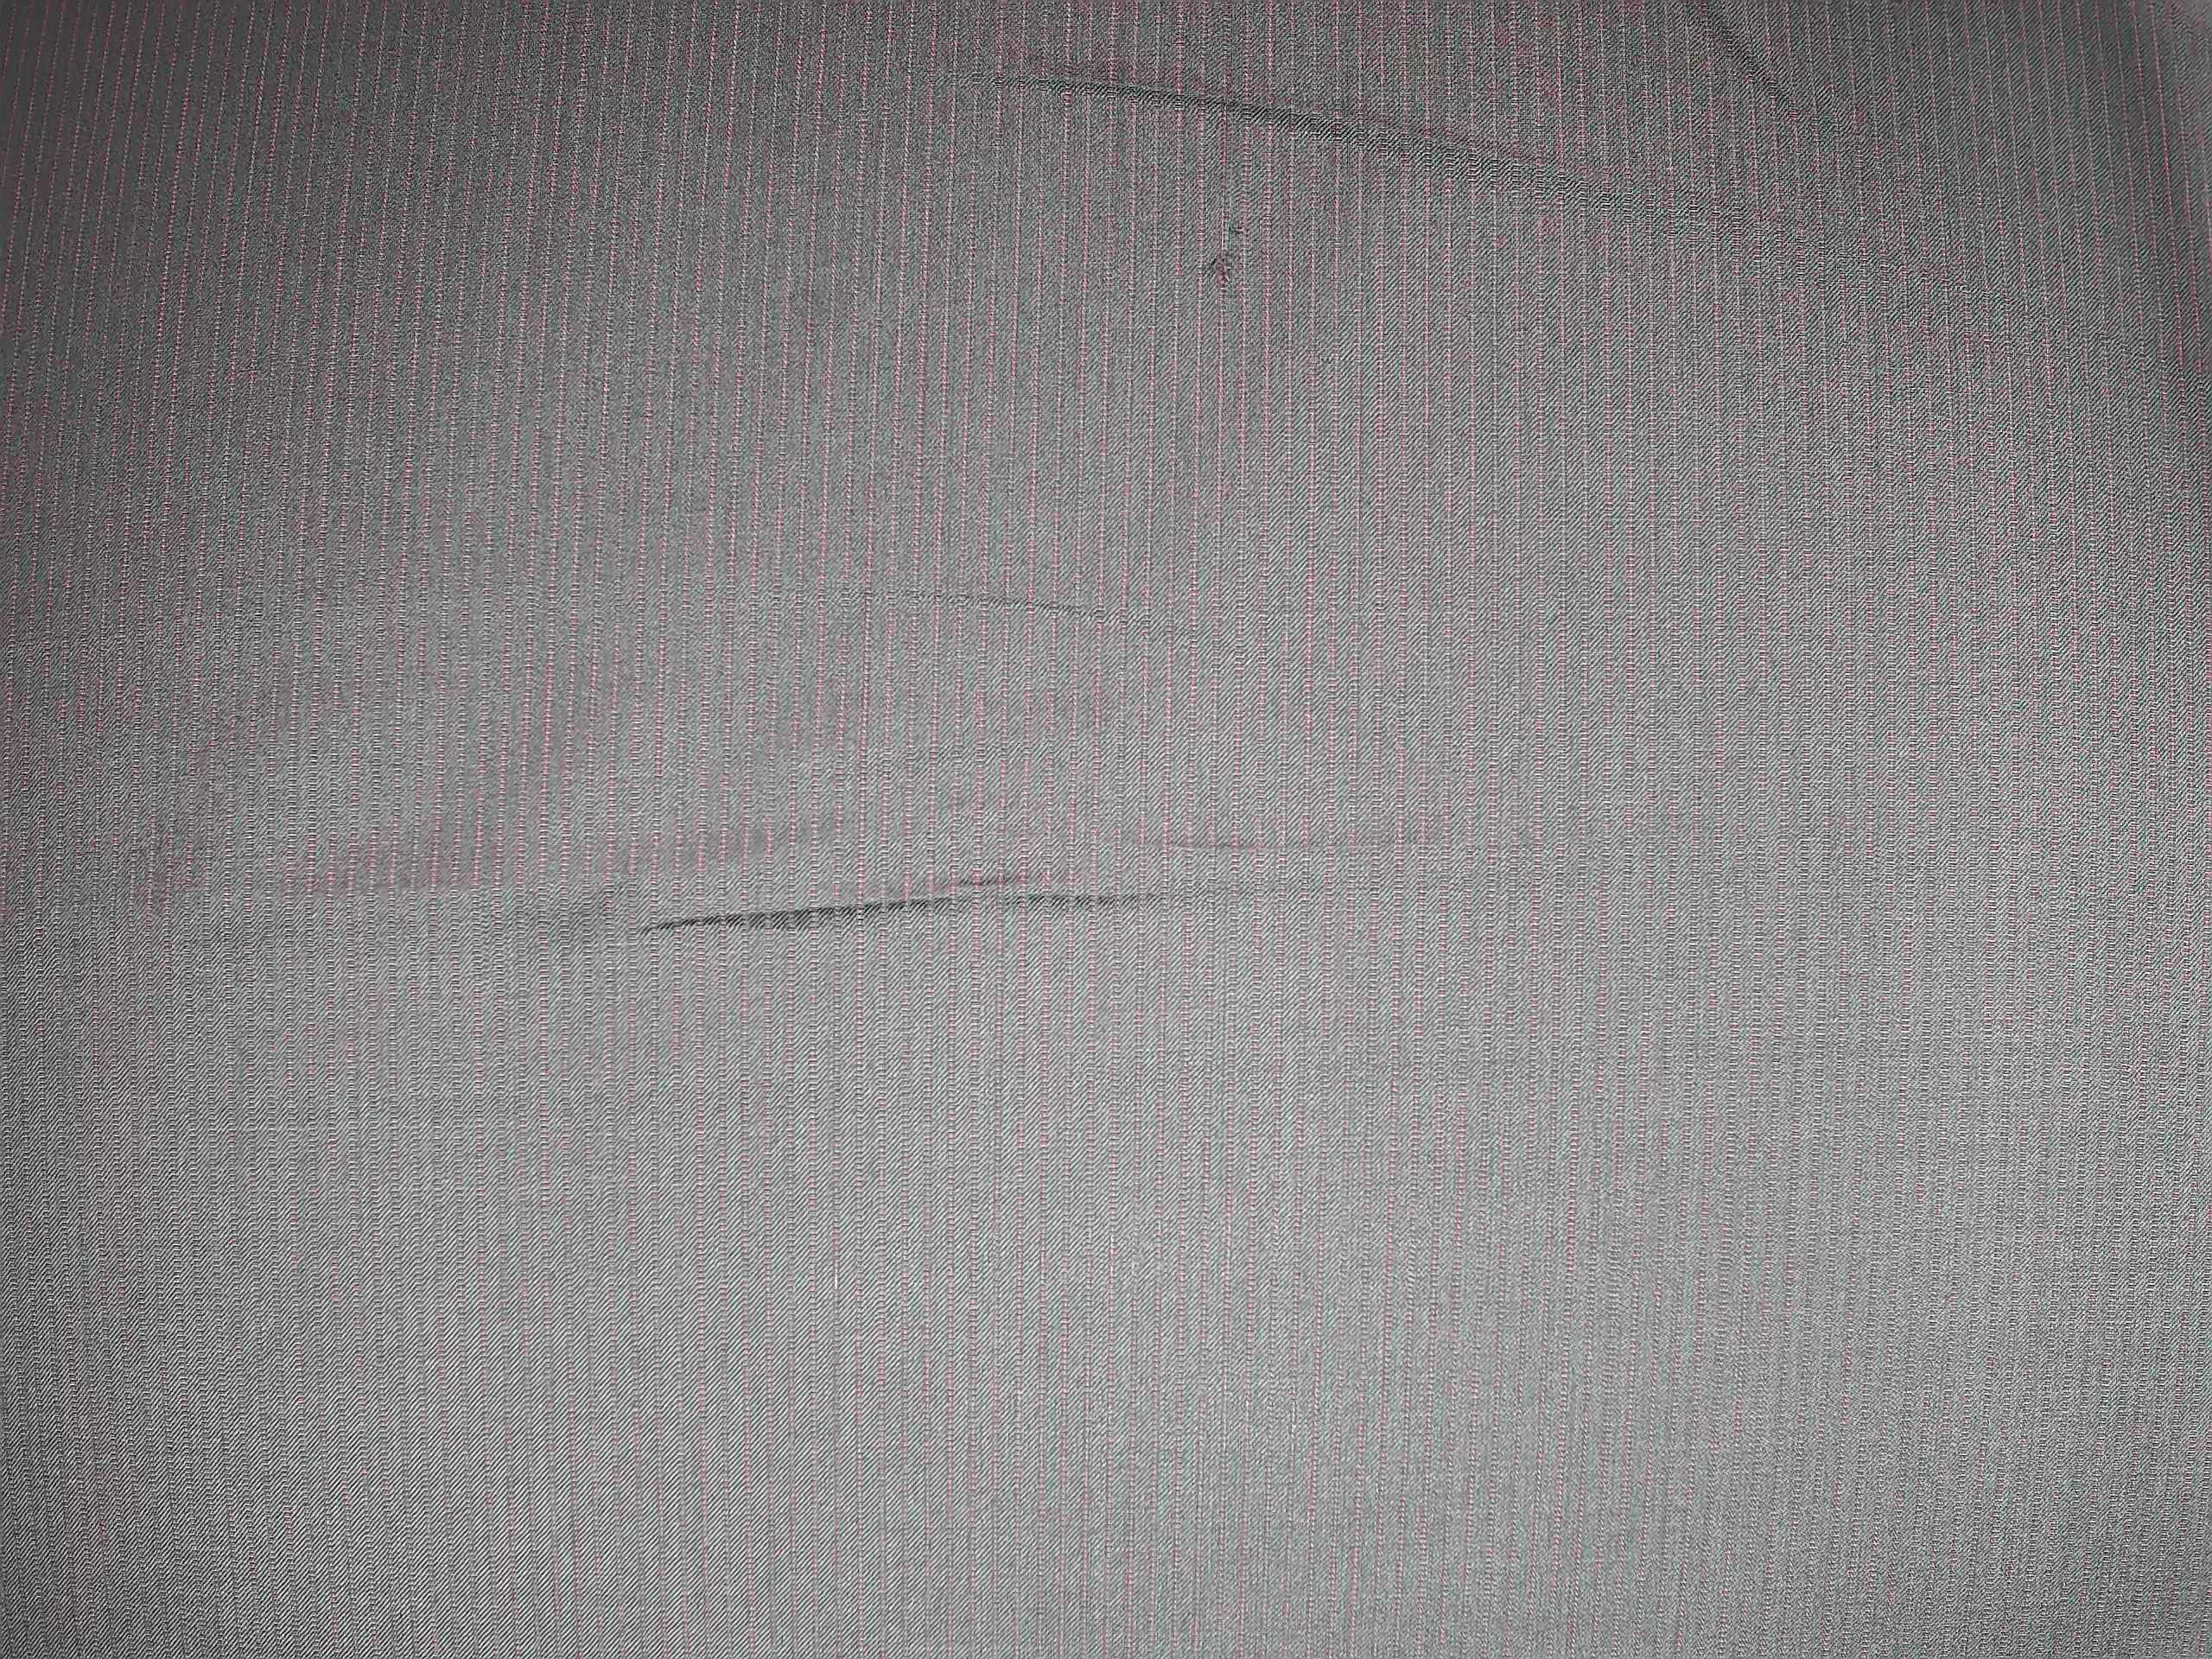hanging-warp: (1198, 118, 1264, 371)
